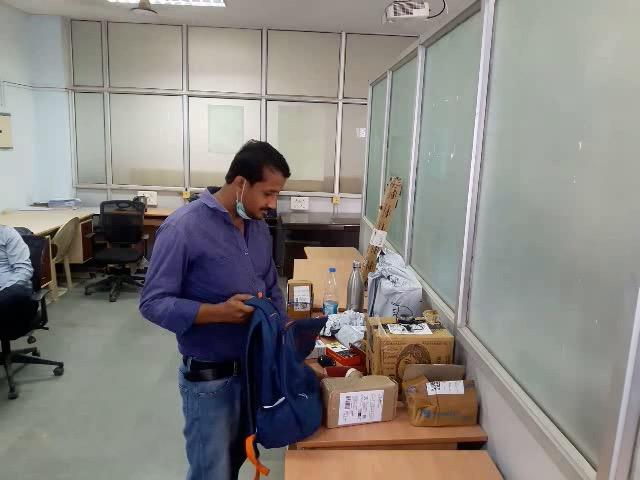shoplifting: (224, 285, 338, 452)
